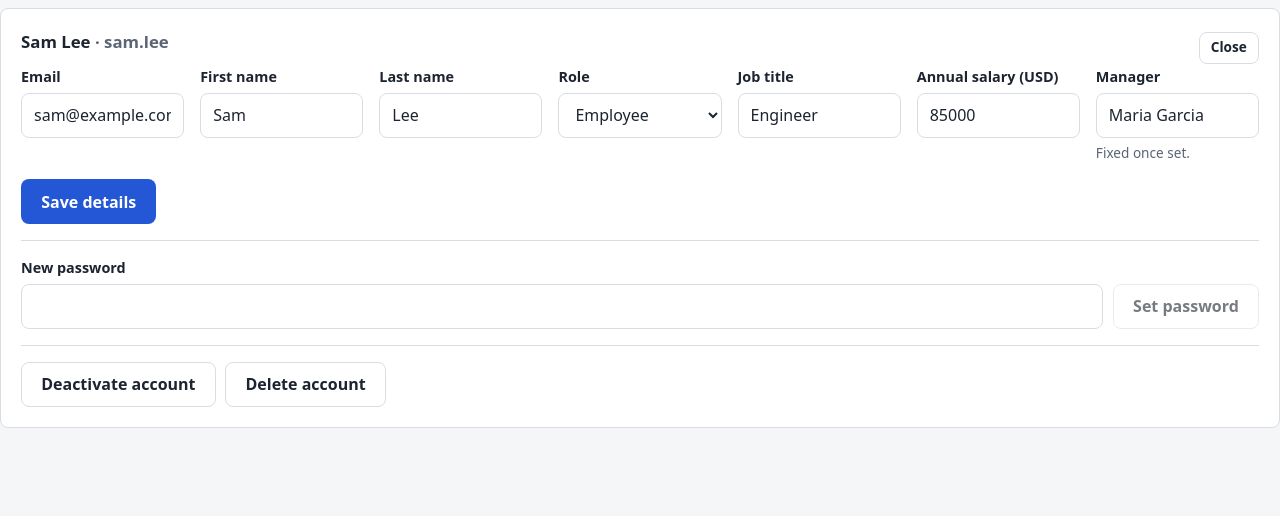
Test: AccountPanel save details › shows a non-field error in the banner
Step 1. Click the button "Save details" → click(89, 202), box [21,179,156,224]
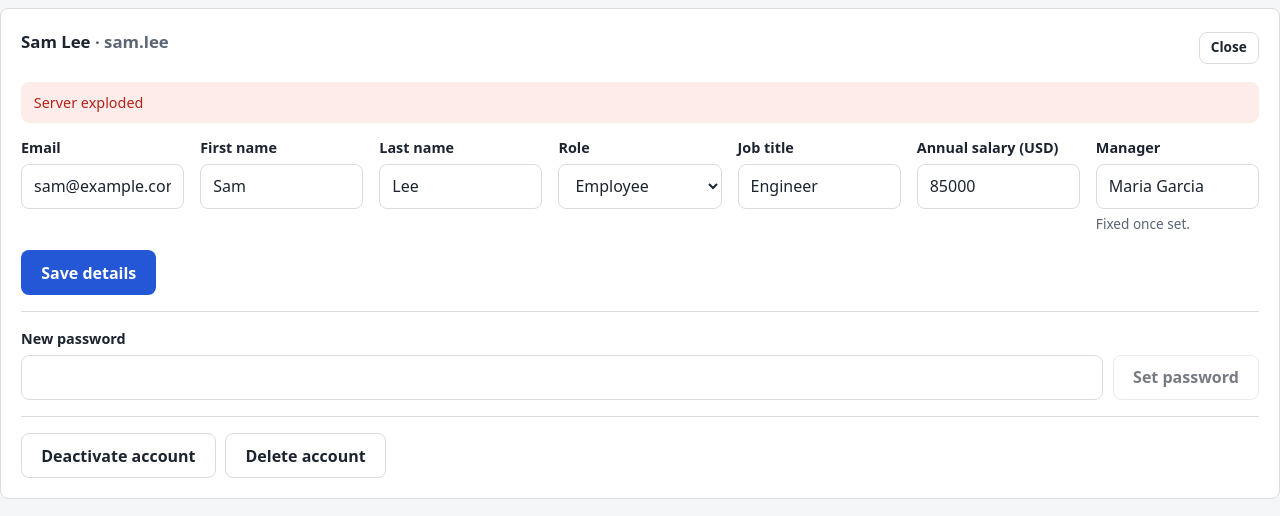
Expected: the button "Save details" is enabled, [21,250,156,295]
Result: the message reads "Server exploded" at [34,93,143,112]
